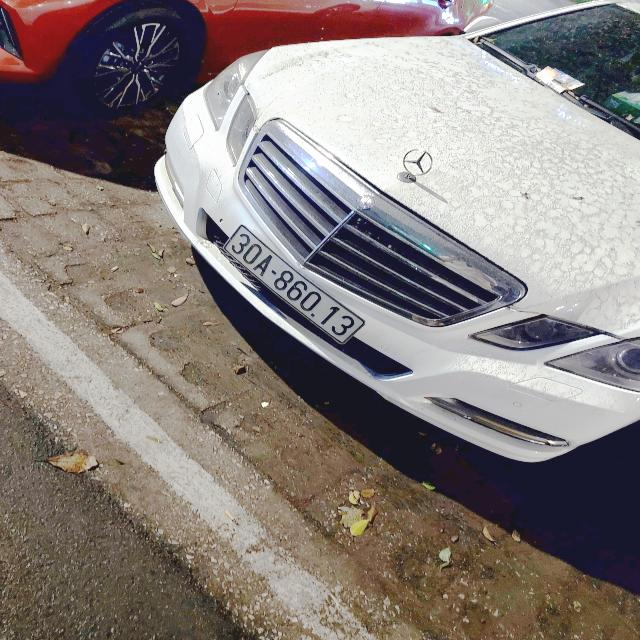license_plate: (218, 221, 373, 349)
